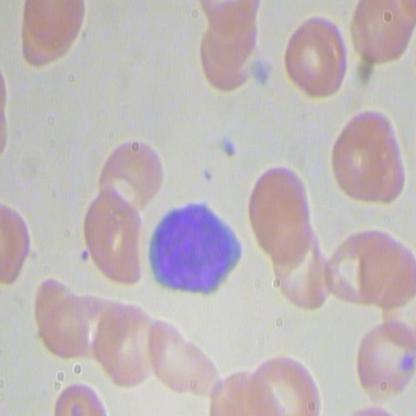Platelets: (250, 57, 272, 84), (219, 135, 240, 160)
RBC: (75, 185, 147, 288), (266, 211, 338, 314), (146, 313, 223, 399), (350, 311, 416, 406), (94, 130, 166, 216), (282, 10, 347, 105), (189, 19, 265, 97), (89, 293, 151, 388), (330, 111, 391, 207), (249, 347, 327, 415), (247, 166, 308, 249), (354, 227, 415, 310), (34, 286, 96, 367), (348, 1, 416, 67), (18, 1, 91, 58)
WBC: (146, 198, 250, 299)
